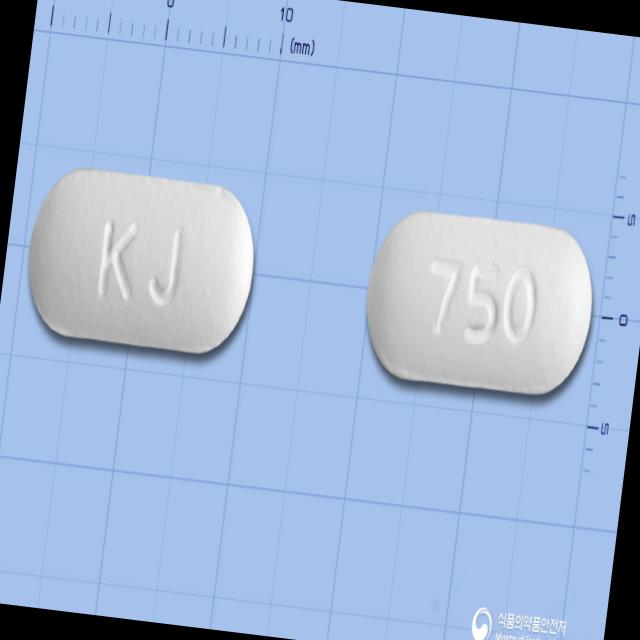Levocaxin: (18, 160, 266, 358), (358, 203, 602, 400)
